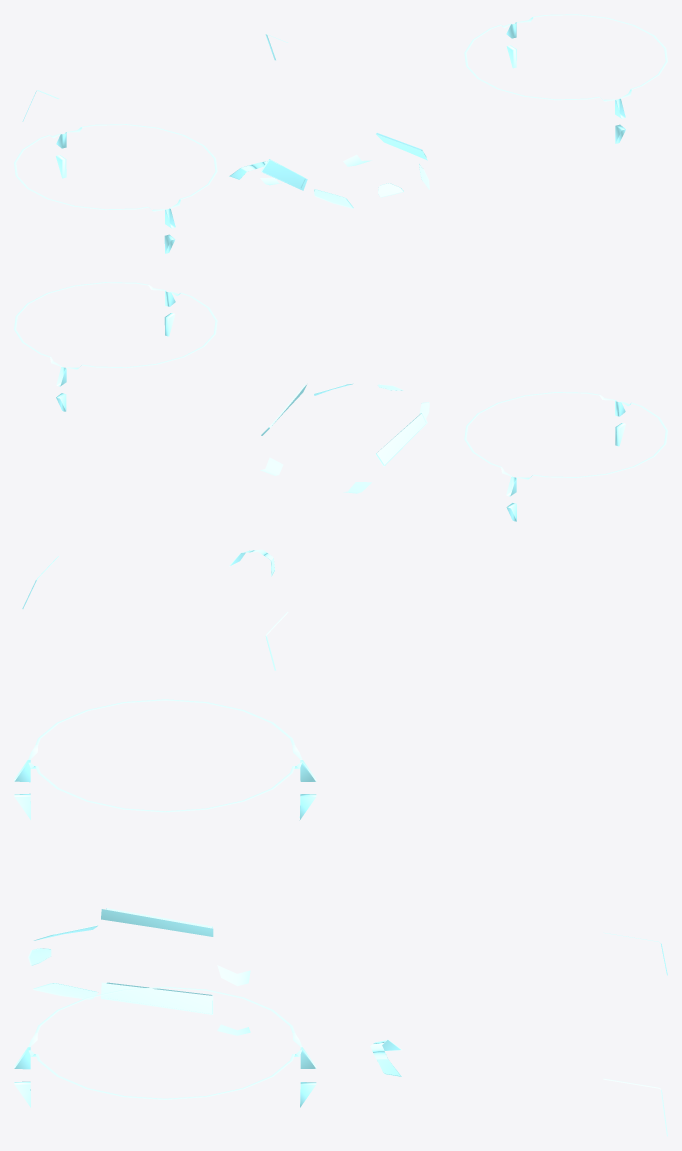
File: FeiJi_2GlowAdd_model.fbx
3 views of the same model, one above another, from view 1: azimuth 30°, elevation 25°; view 2: azimuth 150°, elevation 25°; view 3: azimuth 270°, elevation 25° (orthographic). The views are drawn at different scales.
Parts seen in each view (by area): view 1: FeiJi_2GlowAdd; view 2: FeiJi_2GlowAdd; view 3: FeiJi_2GlowAdd.
Part boxes in pixels (bbox=[...]): FeiJi_2GlowAdd: bbox=[14, 14, 667, 253]; FeiJi_2GlowAdd: bbox=[14, 282, 667, 670]; FeiJi_2GlowAdd: bbox=[14, 699, 667, 1136].
Bounding box in the file's own units: 26.8 × 5.12 × 18.48.
